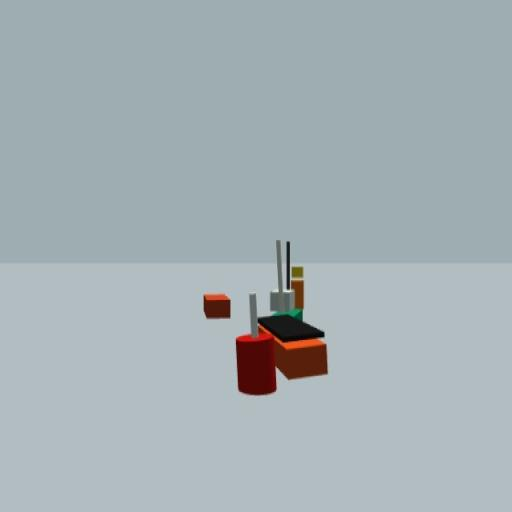debris_container: (203, 293, 231, 319)
floating_obstacle: (236, 292, 278, 396)
